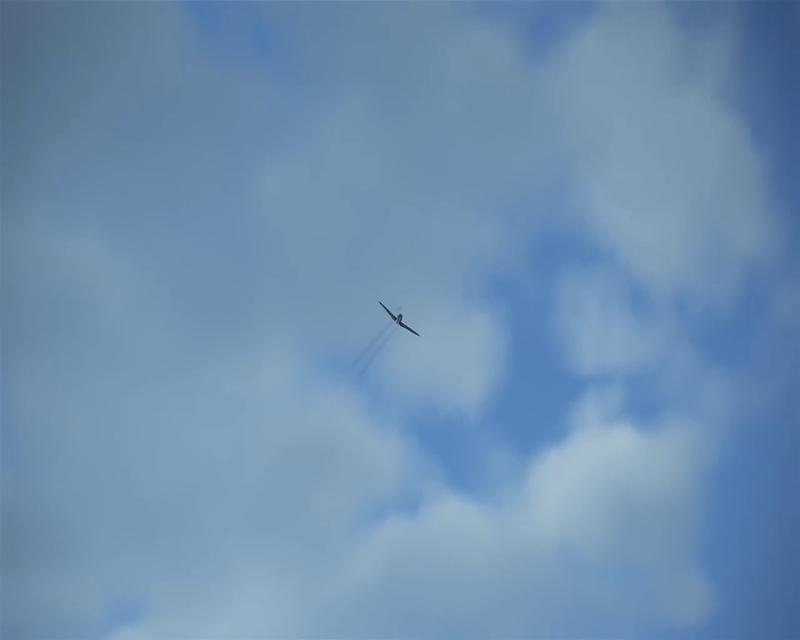UAV: (378, 301, 421, 336)
